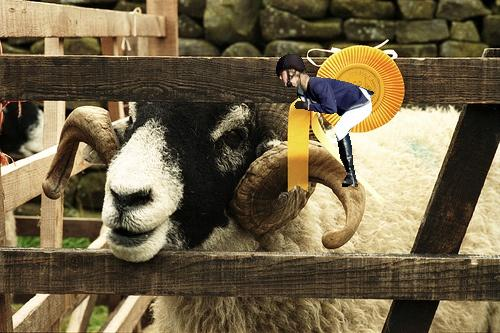tampered: (277, 55, 374, 187)
